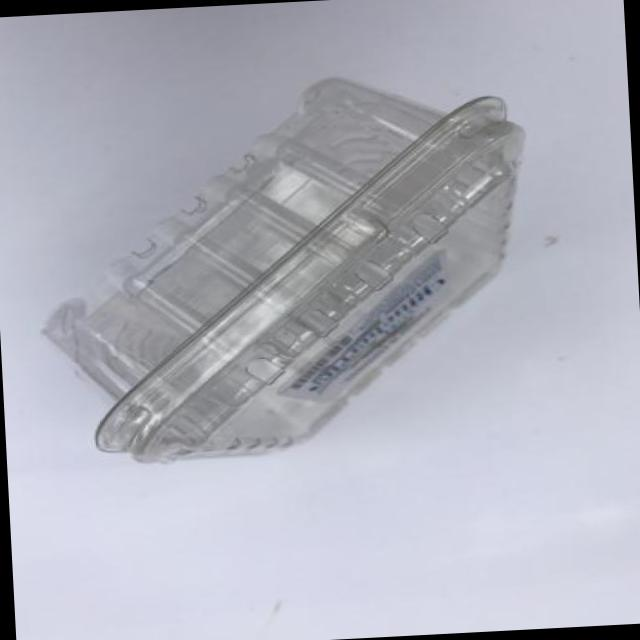Clamshell: (12, 61, 552, 480)
Label: (244, 242, 476, 415)
